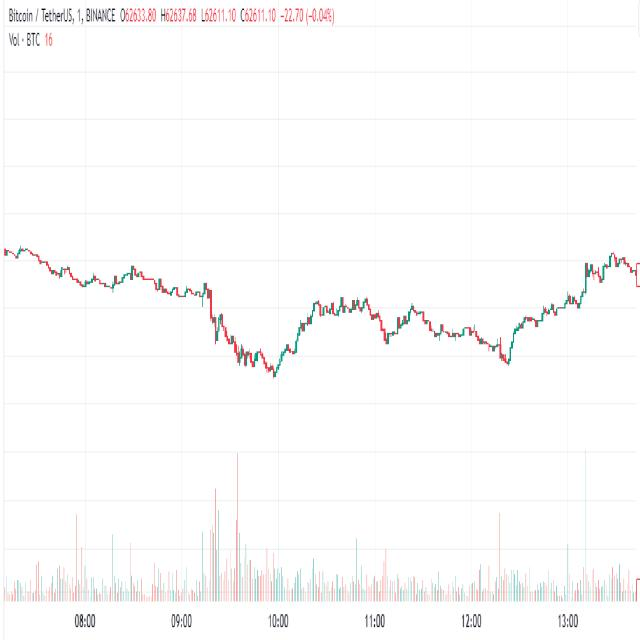Rounding-Bottom: (206, 302, 309, 384)
